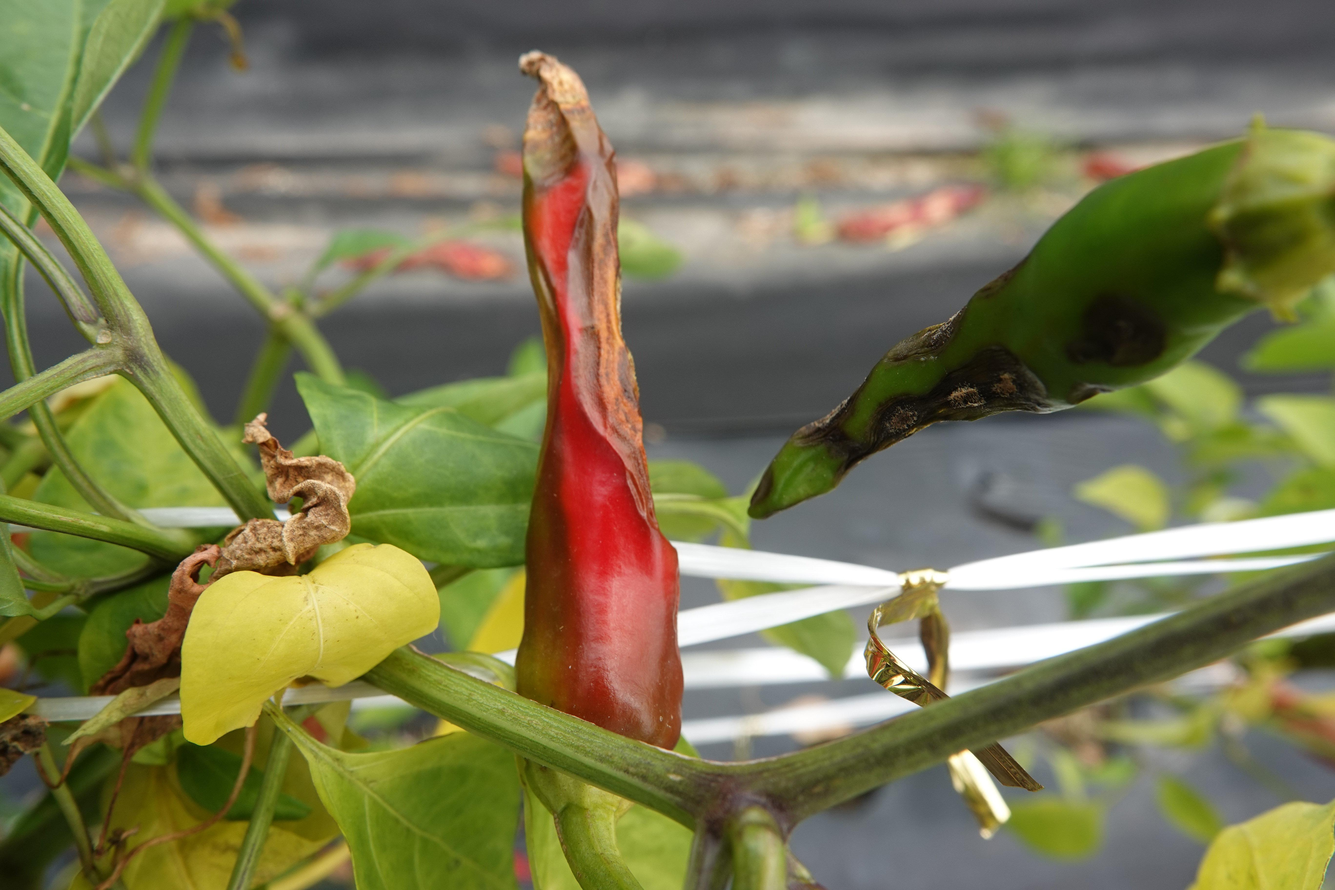Busuk Buah Antraknosa: (747, 140, 1335, 529), (507, 45, 694, 787)
